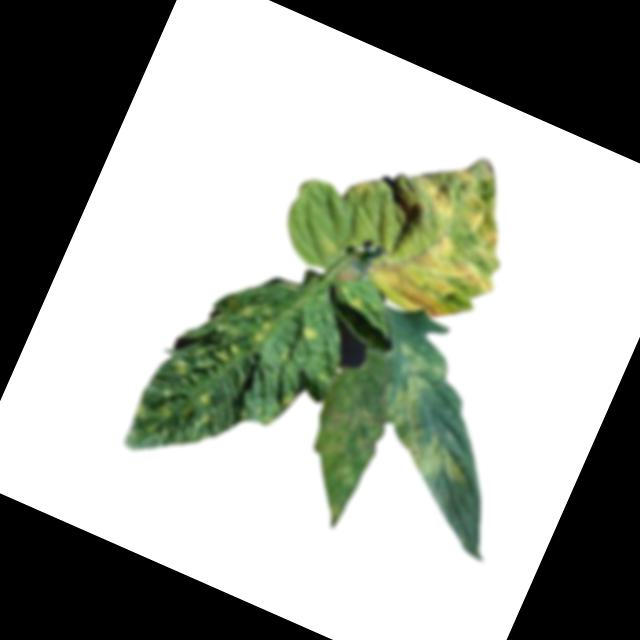Leaf_Mold: (312, 111, 542, 340), (120, 271, 282, 483), (356, 342, 505, 493), (279, 388, 390, 530), (299, 323, 321, 345), (347, 295, 367, 314)
